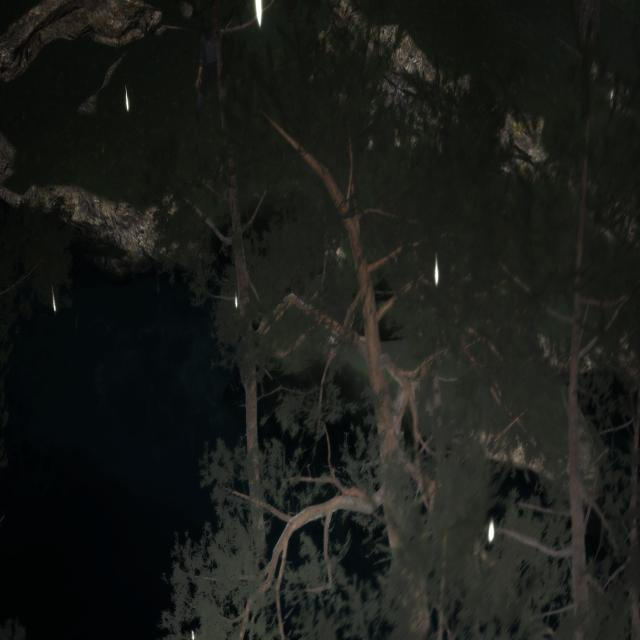Human: (192, 26, 235, 126)
